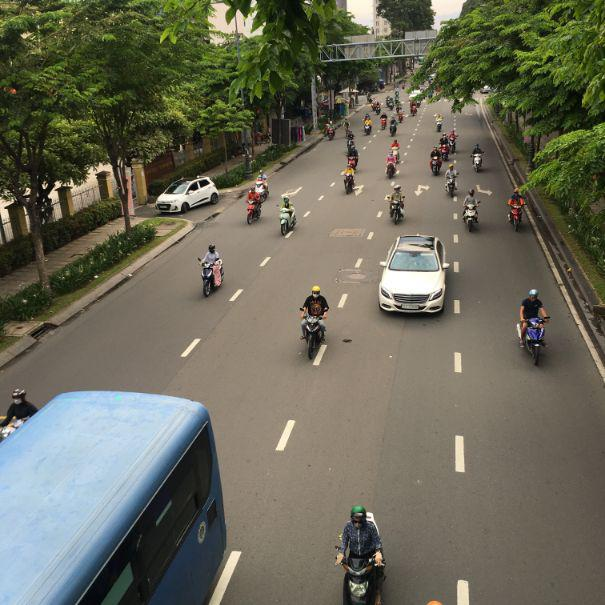car: (377, 232, 449, 315), (155, 178, 220, 214)
motorbike: (341, 550, 386, 604), (298, 314, 328, 365), (522, 316, 549, 367), (200, 257, 223, 298), (245, 190, 266, 226), (508, 201, 528, 231), (464, 201, 482, 232), (280, 208, 297, 237), (388, 197, 405, 225), (340, 175, 357, 194)
